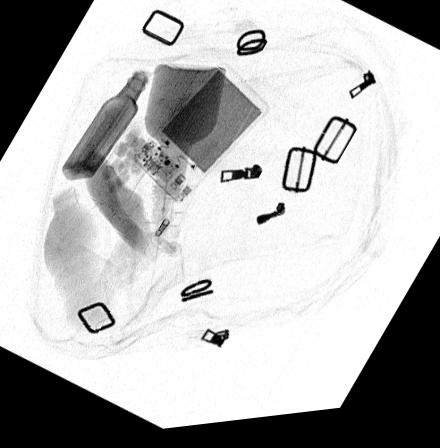Powerbank: (129, 68, 266, 205)
